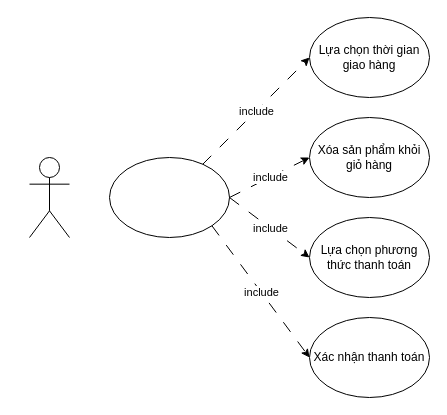
Image size: 447x415. Some labels were removed from this diagram. Each missing label, with the box of its shape:
Khách hàng: (28, 156, 70, 238)
Thanh toán: (108, 156, 230, 238)
